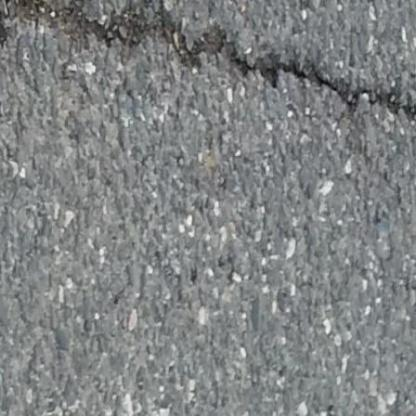Cracks: (0, 0, 416, 154)
